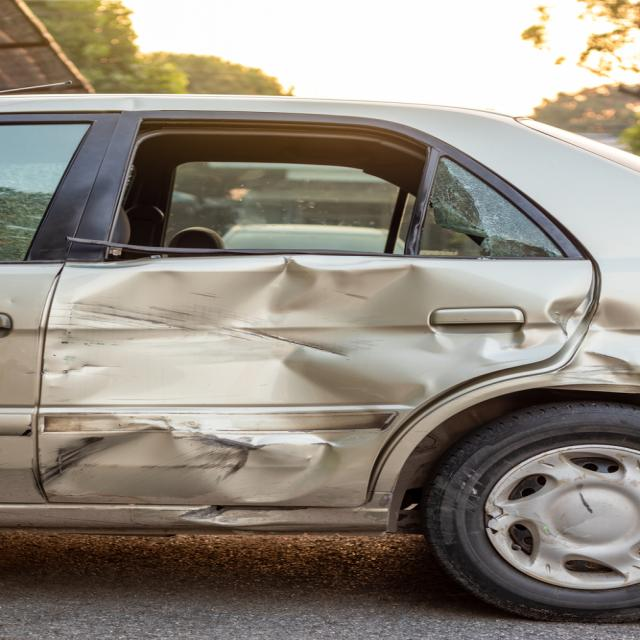Cabossage: (54, 266, 525, 483), (547, 294, 640, 378), (163, 492, 344, 532)
Fissure: (428, 202, 490, 260)
